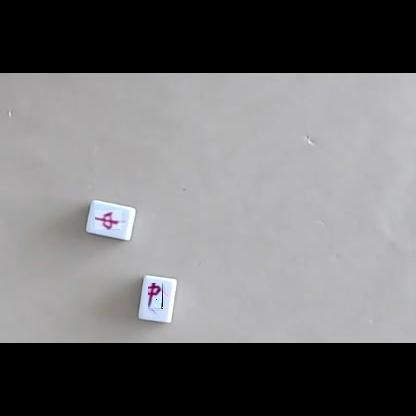7z: (96, 210, 125, 230), (149, 284, 168, 314)
